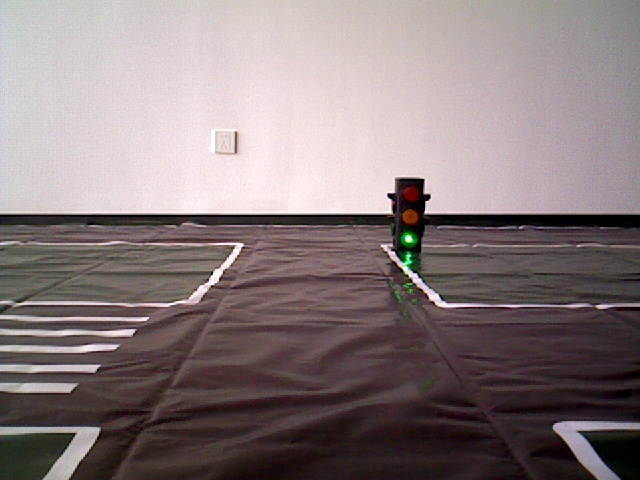green: (394, 176, 424, 249)
